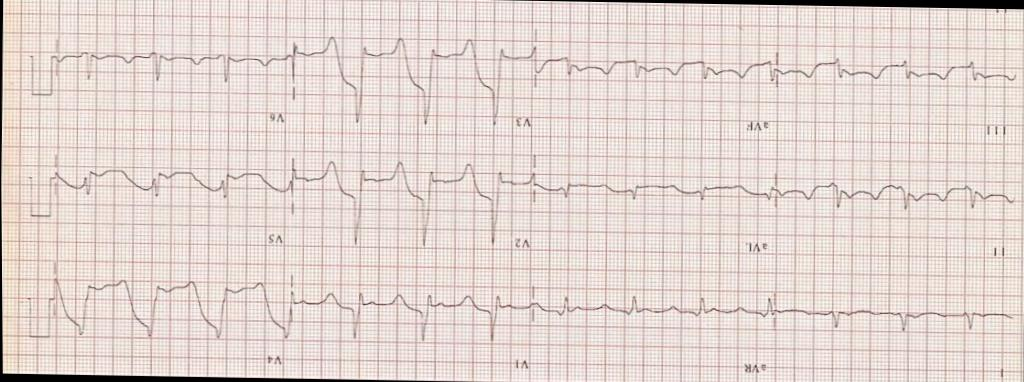Lead_I: (776, 279, 1015, 382)
Lead_II: (776, 164, 1019, 268)
Lead_III: (775, 34, 1024, 148)
Lead_V1: (290, 265, 533, 376)
Lead_V2: (291, 145, 535, 263)
Lead_V3: (290, 27, 534, 140)
Lead_V4: (54, 250, 292, 375)
Lead_V5: (54, 141, 292, 250)
Lead_V6: (53, 21, 291, 140)
Lead_aVF: (534, 25, 779, 142)
Lead_aVL: (532, 158, 778, 260)
Lead_aVR: (531, 270, 776, 377)
